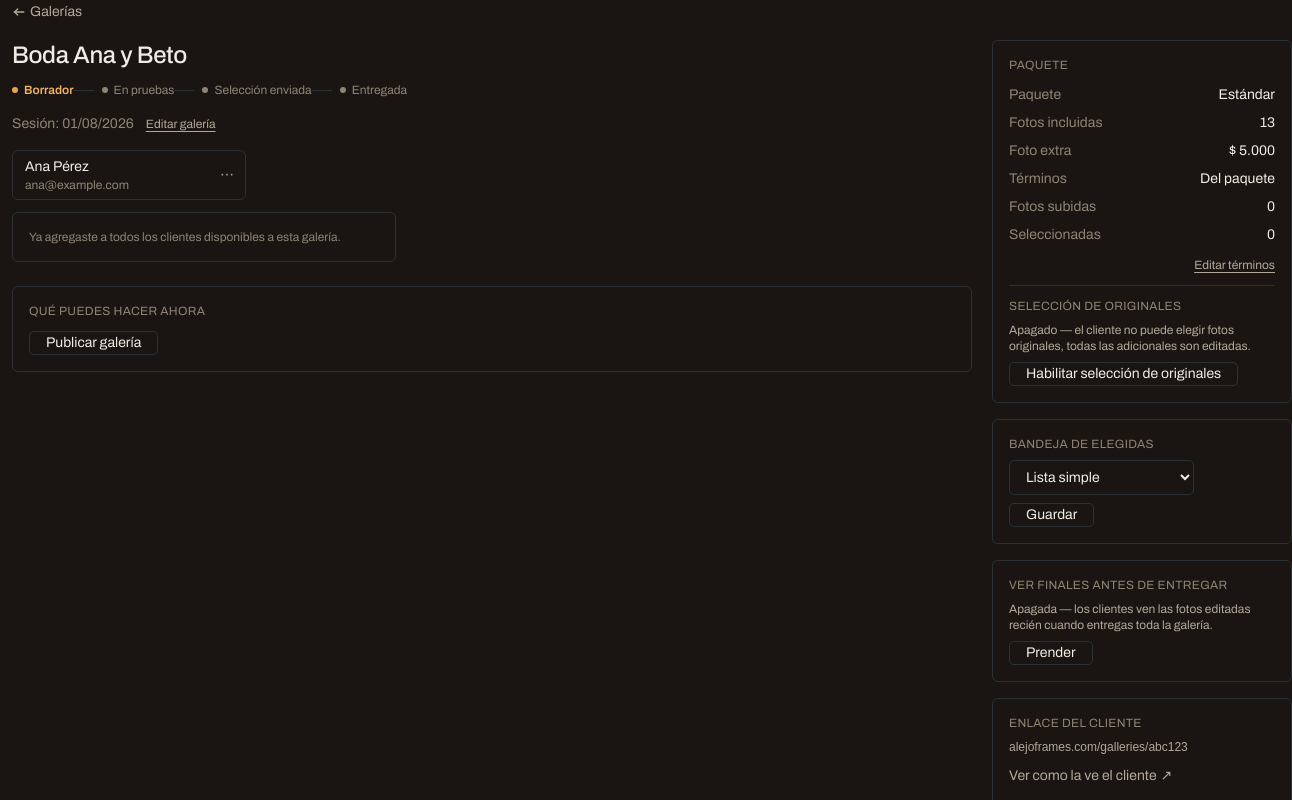
GalleryDetailPage — attaching and removing clients (task #97) › shows the Quitar affordance for the ONLY active client on a DRAFT gallery
Click the button named "Acciones para Ana Pérez" at (227, 175), box [215,163,239,187]
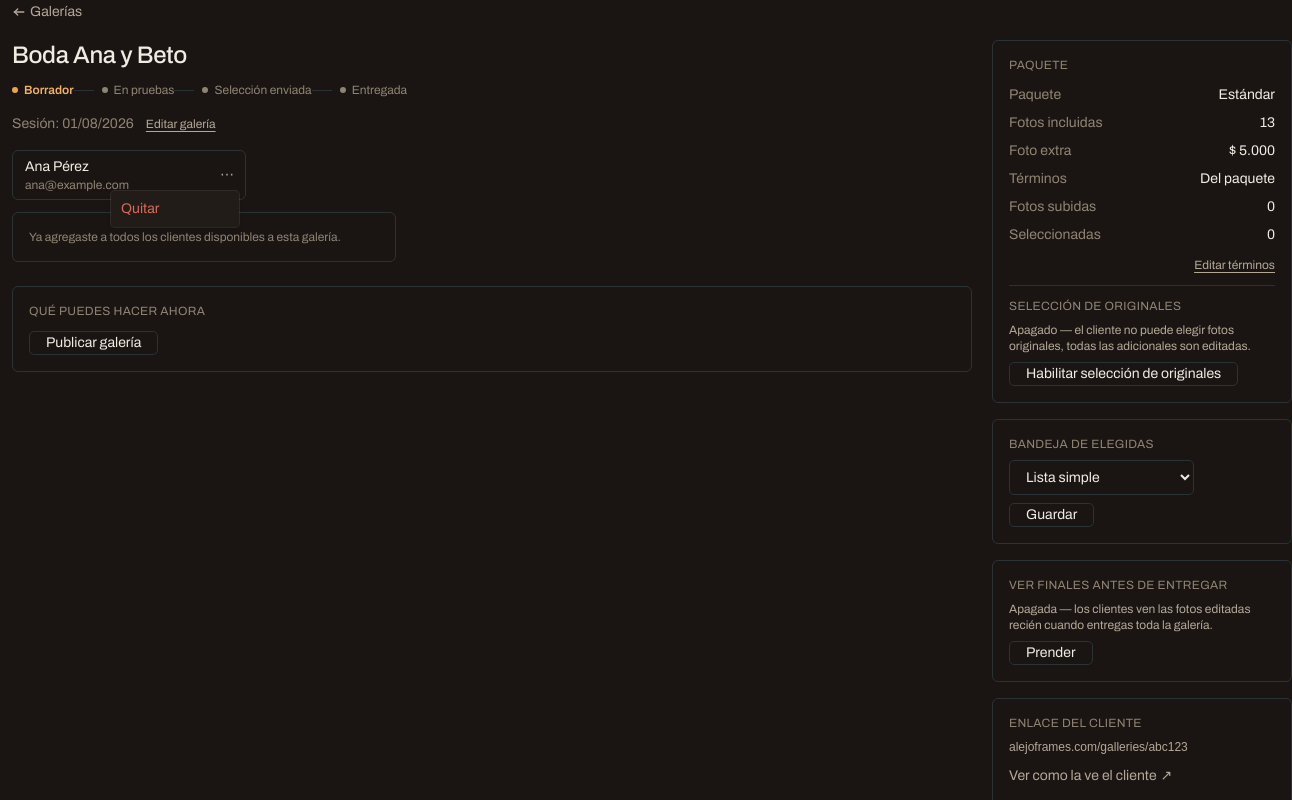
Now the menu item "Quitar" is shown, box [121,201,160,216]
